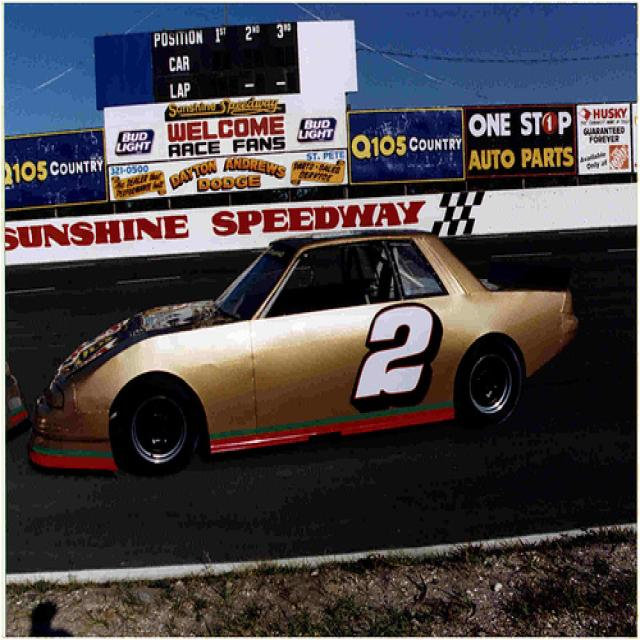car: (28, 227, 582, 479)
